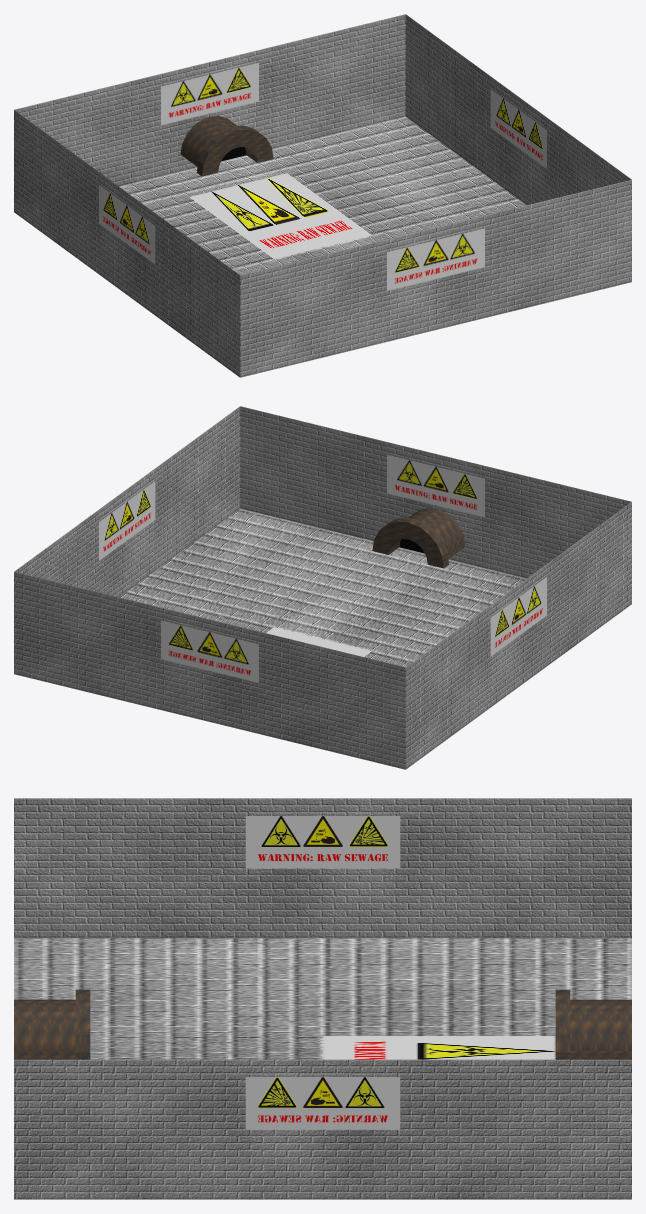
Rendered from esgotos.FBX.
3 renders of one model, top to bottom at view 1: azimuth 30°, elevation 25°; view 2: azimuth 150°, elevation 25°; view 3: azimuth 270°, elevation 25°, orthographic. The views are drawn at different scales.
Visible parts, largest first — view 1: Tanque, Tube01; view 2: Tanque, Tube02; view 3: Tanque, Tube01, Tube02.
Boxes of the visible parts, box(x1,y1,x2,y2) form: Tanque: box(14, 14, 631, 377); Tube01: box(180, 116, 273, 176); Tanque: box(14, 406, 631, 769); Tube02: box(372, 508, 465, 568); Tanque: box(14, 798, 631, 1199); Tube01: box(555, 989, 631, 1059); Tube02: box(14, 989, 90, 1059).
Size of the model in its own units: 200 by 50 by 200.
3 materials, 2 textured.
